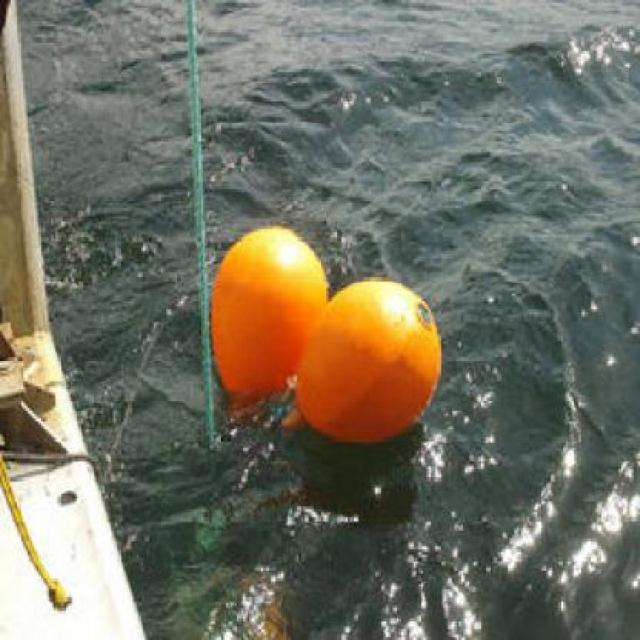a: (165, 1, 234, 444), (285, 281, 451, 463), (201, 214, 347, 413)
